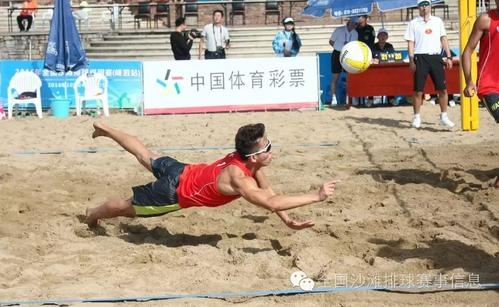falling: (73, 105, 335, 238)
